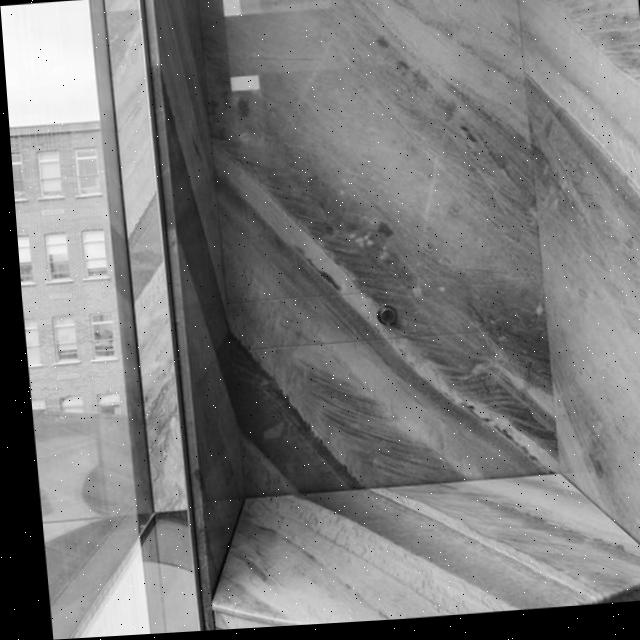building: (9, 110, 133, 425)
